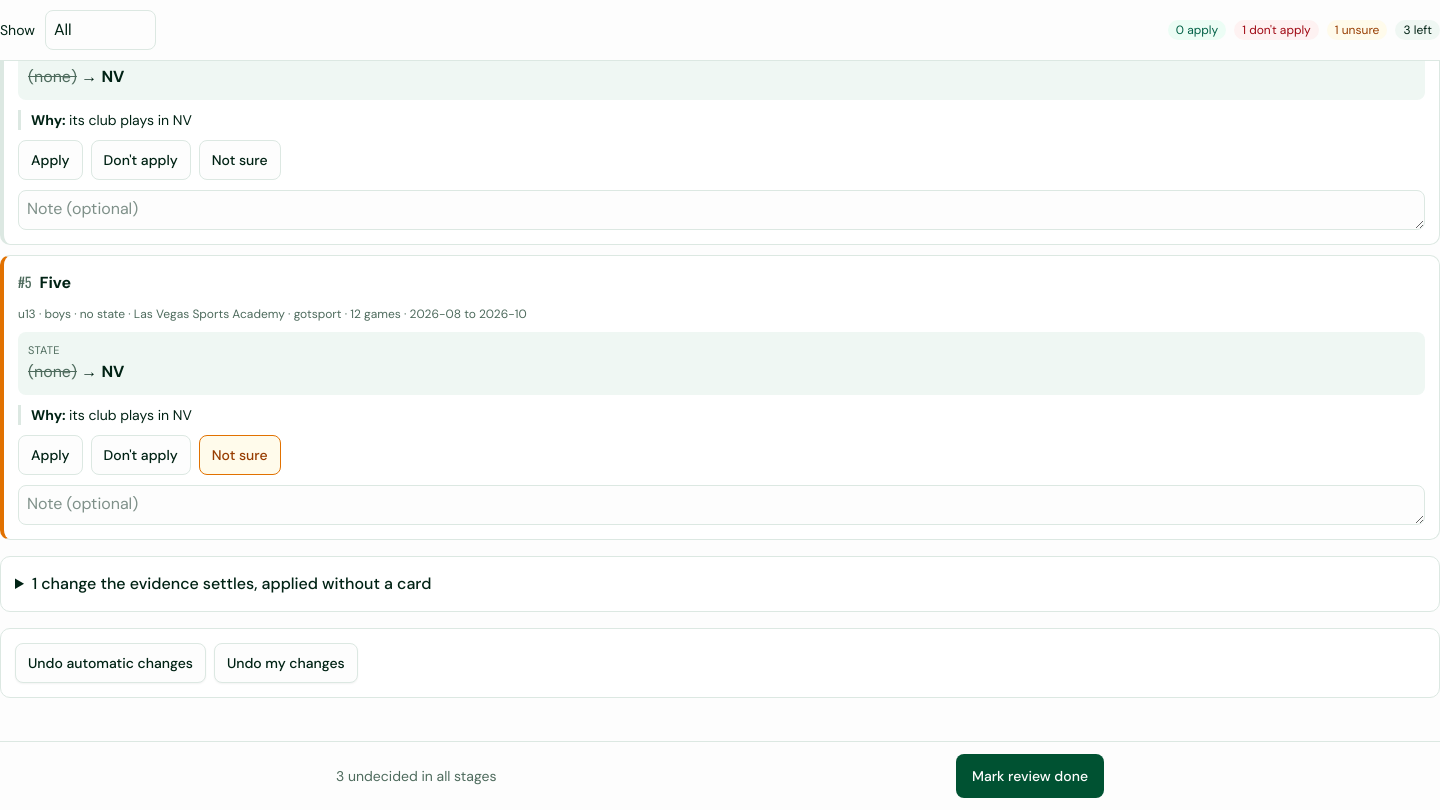
the team cleanup review page › asks for a lane's undo once confirmed, then shows it waiting and offers it no more
The width and height of the screenshot is (1440, 810).
(page scrolled)
Click the button "Undo automatic changes": [110, 663] box [15,643,206,683]
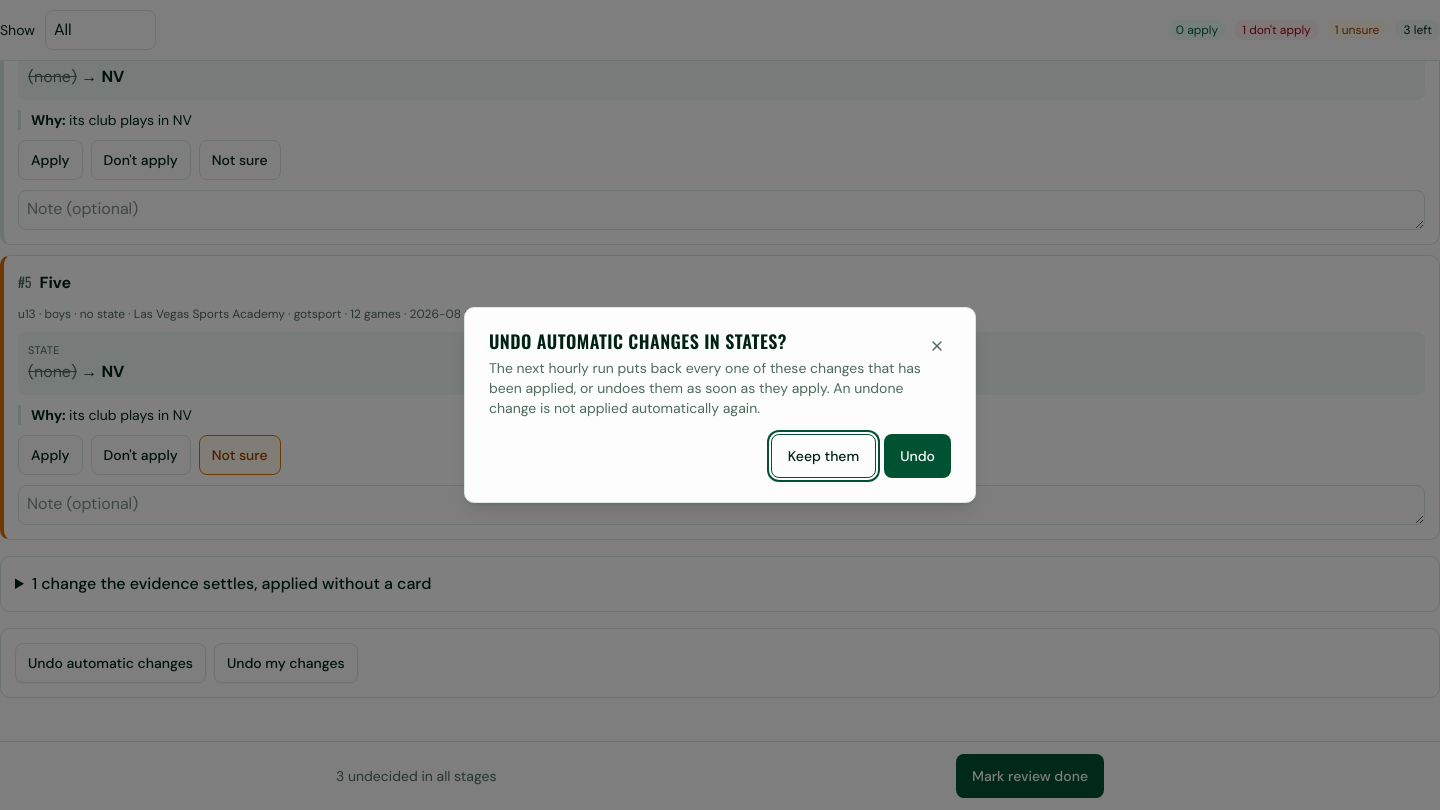
Click the button "Undo": [918, 456] box [884,434,951,478]
(page scrolled)
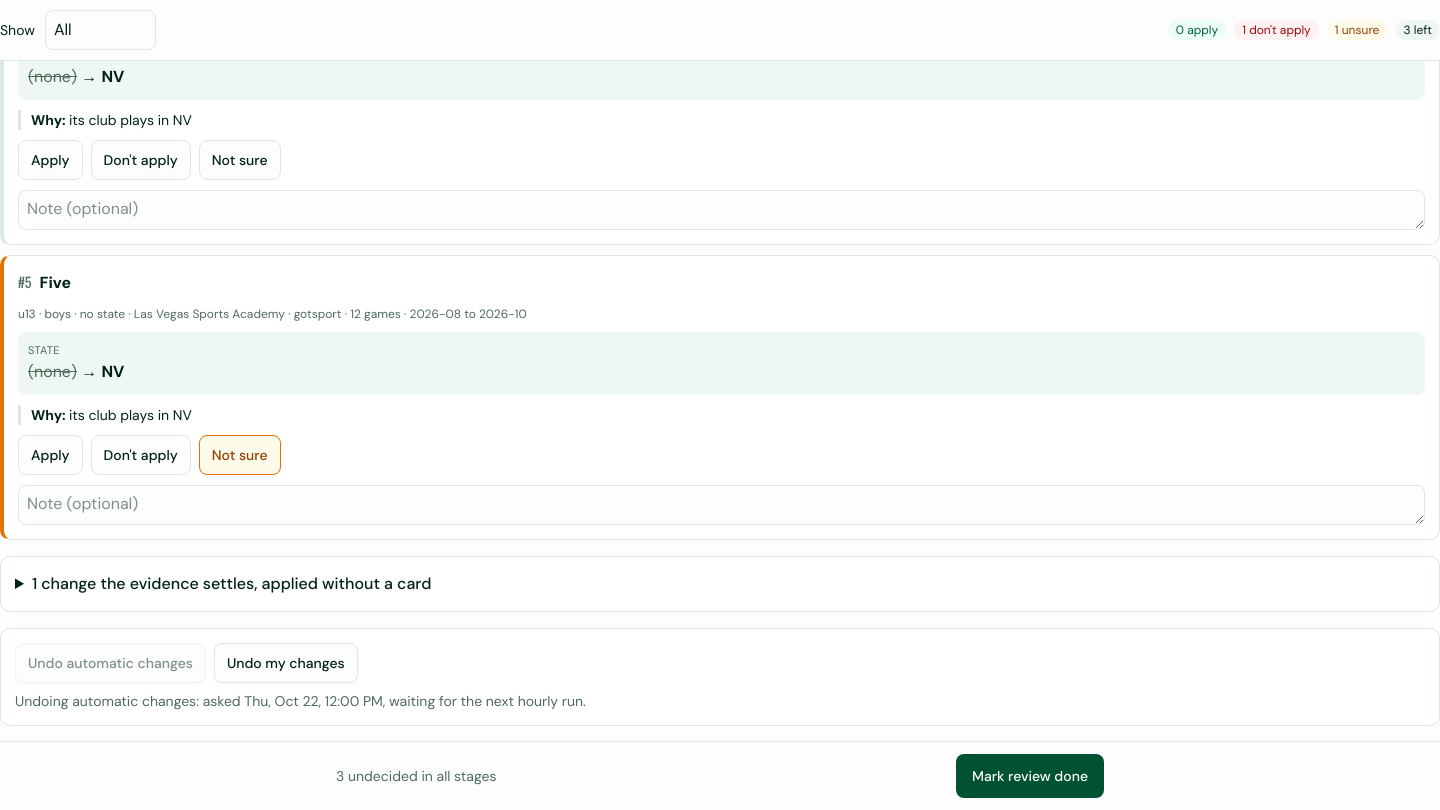
Expected: the button "Undo my changes" is enabled, [214,643,358,683]
Expected: the element with test id "cleanup-undo" shows "Undoing automatic changes: asked Thu, Oct 22, 12:00 PM, waiting for the next hourly run.", [15,692,586,710]
Expected: the button "Undo automatic changes" is disabled, [15,643,206,683]
